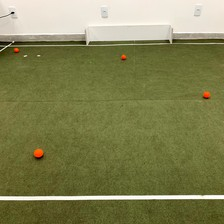ball: (31, 147, 44, 159), (201, 89, 211, 100), (12, 45, 21, 54), (119, 52, 127, 61)
goal: (82, 22, 175, 46)
